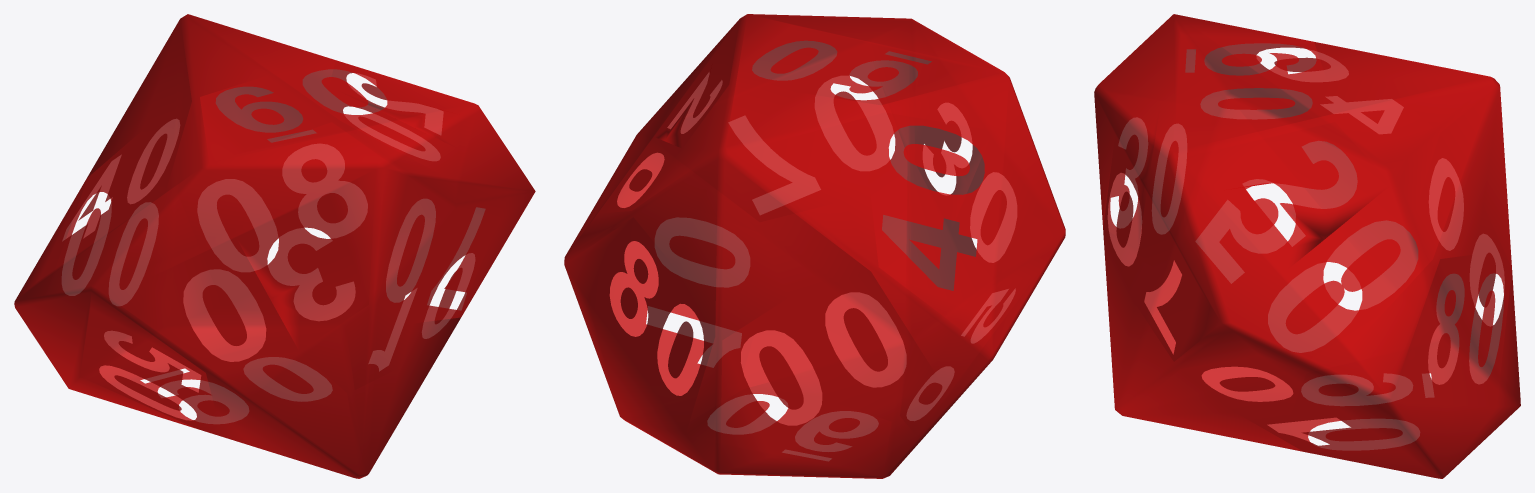
File: d100_lowpoly.fbx
The picture shows the model from 3 angles, left to right: view 1: azimuth 30°, elevation 25°; view 2: azimuth 150°, elevation 25°; view 3: azimuth 270°, elevation 25°; orthographic projection. The views are drawn at different scales.
Visible parts, largest first — view 1: 100_Sided; view 2: 100_Sided; view 3: 100_Sided.
Boxes of the visible parts, <box> form: 100_Sided: <box>14,14,535,478</box>; 100_Sided: <box>564,14,1065,478</box>; 100_Sided: <box>1094,14,1520,478</box>.
Size of the model in its own units: 11.86 by 8.55 by 9.65.
